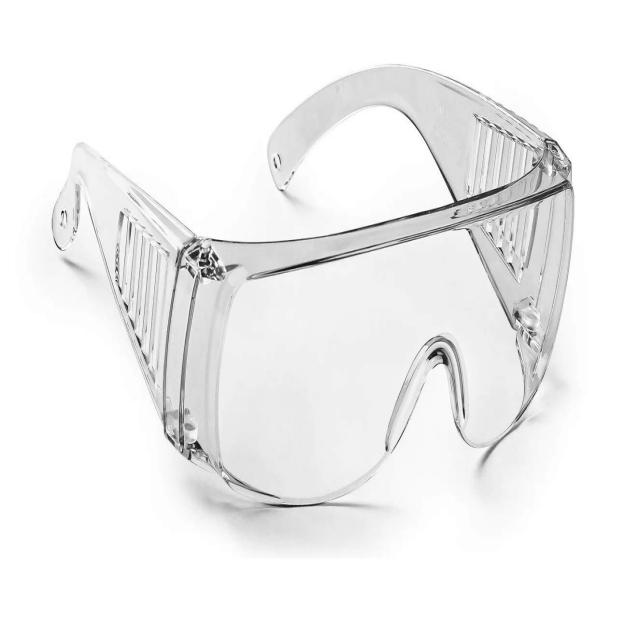Protective Glasses: (59, 80, 587, 507)
